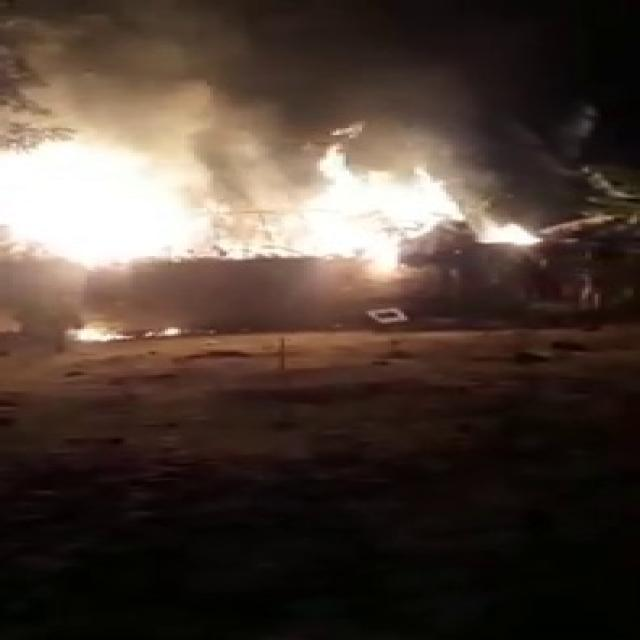Fire: (278, 136, 540, 282), (0, 138, 248, 264), (51, 314, 148, 348)
Smoke: (0, 0, 520, 163)
